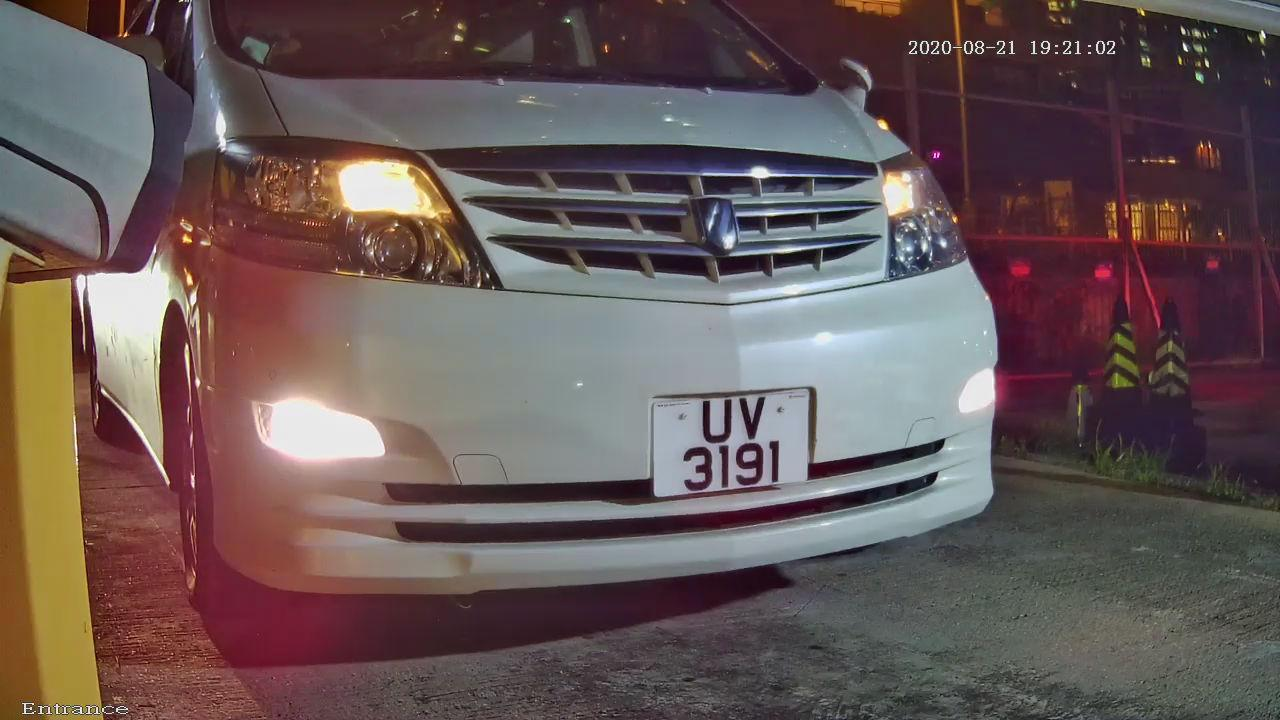Car: (46, 7, 1081, 637)
License Plate: (641, 373, 841, 515)
